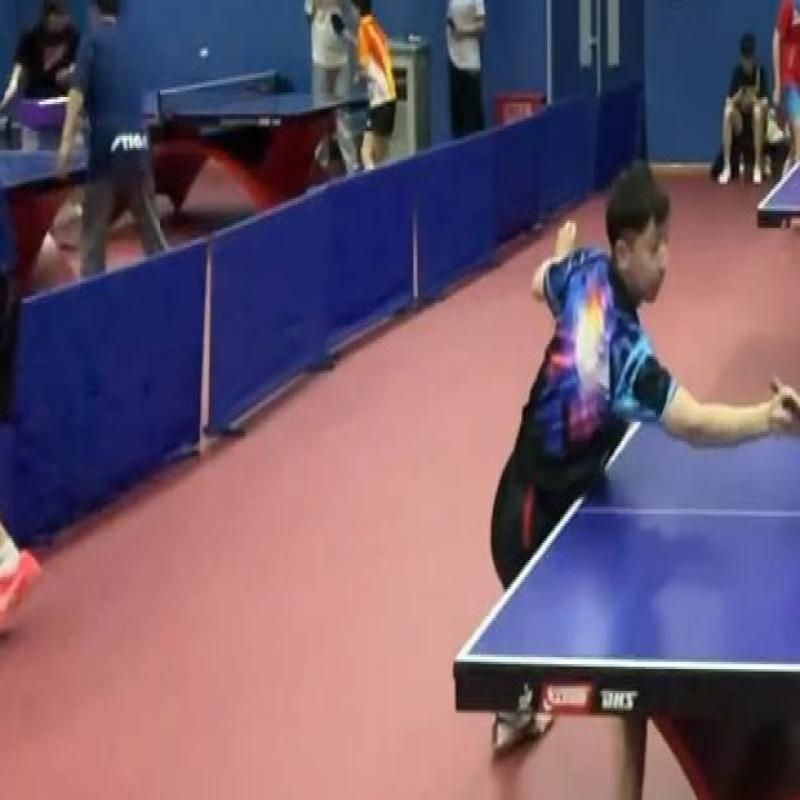bats: (760, 368, 800, 443)
